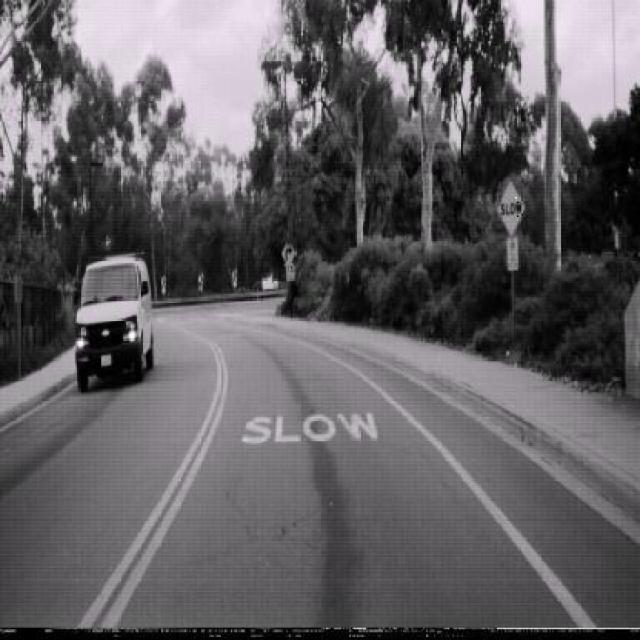slow: (496, 179, 526, 238)
turnRight: (283, 240, 299, 268)
